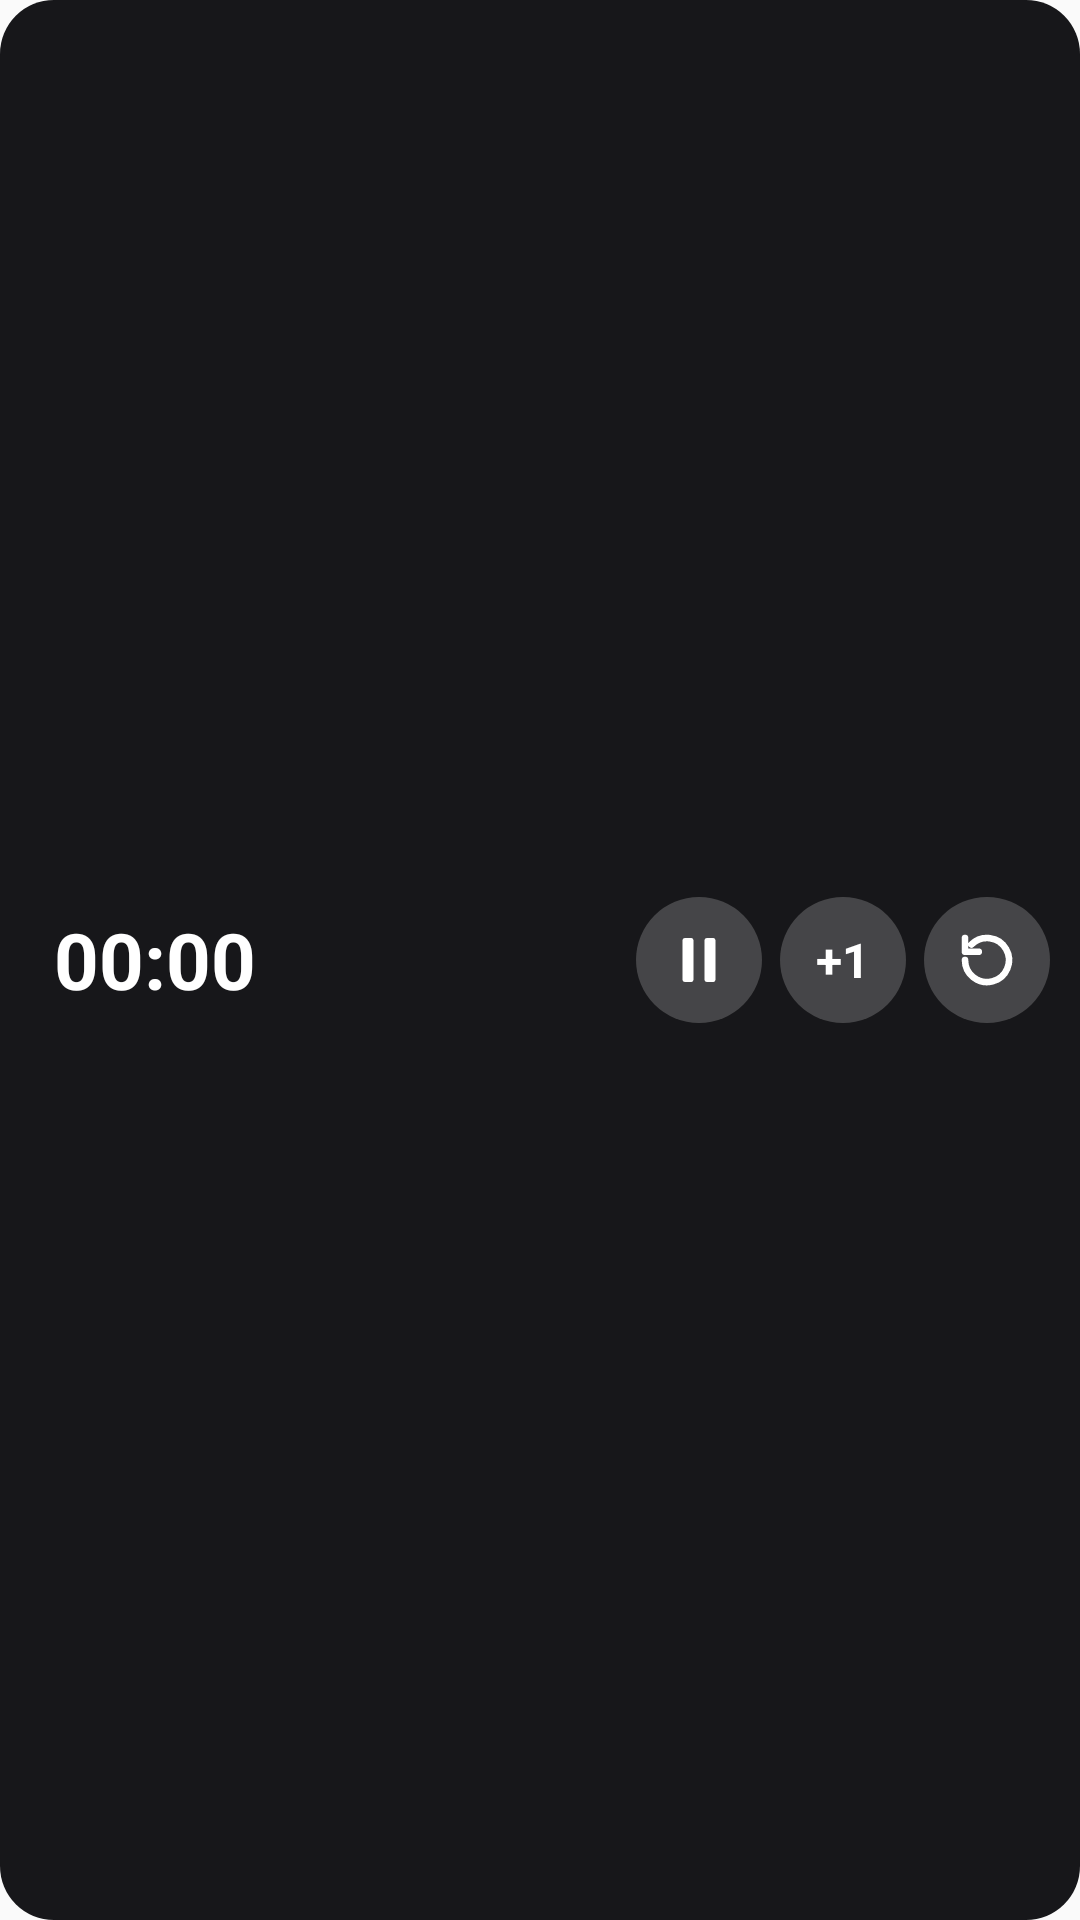

Named icons in this screenshot (1080 x 1920) and their centers, (x,y):
Pause or resume: (699,960)
Stop and set back to the start: (987,960)
